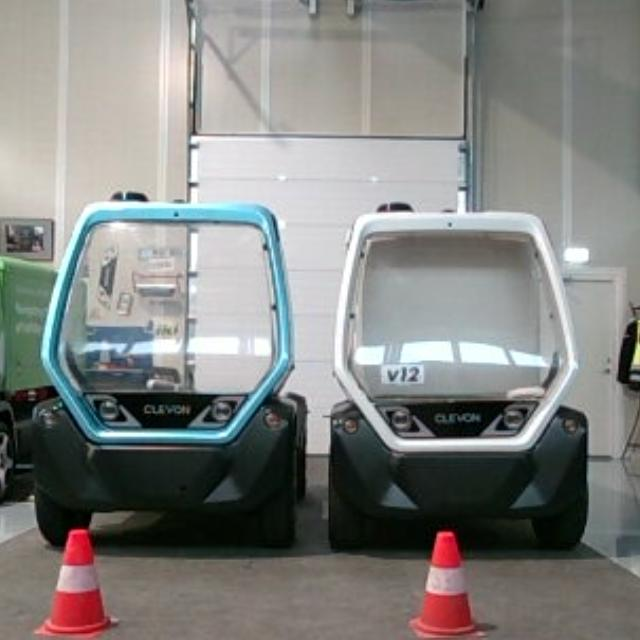Traffic-cone: (26, 521, 125, 640), (400, 527, 491, 640)
